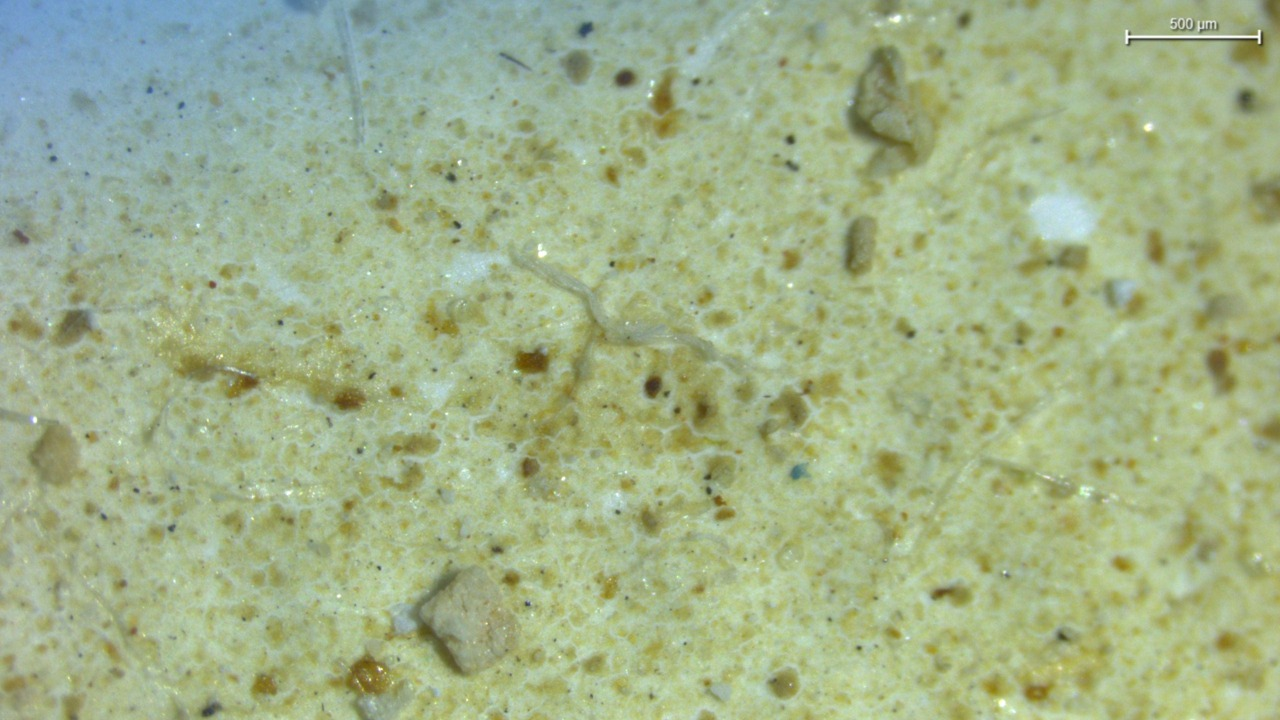microplastic_fragment: (419, 567, 518, 674), (851, 46, 934, 156), (30, 426, 80, 485), (845, 216, 877, 275)
